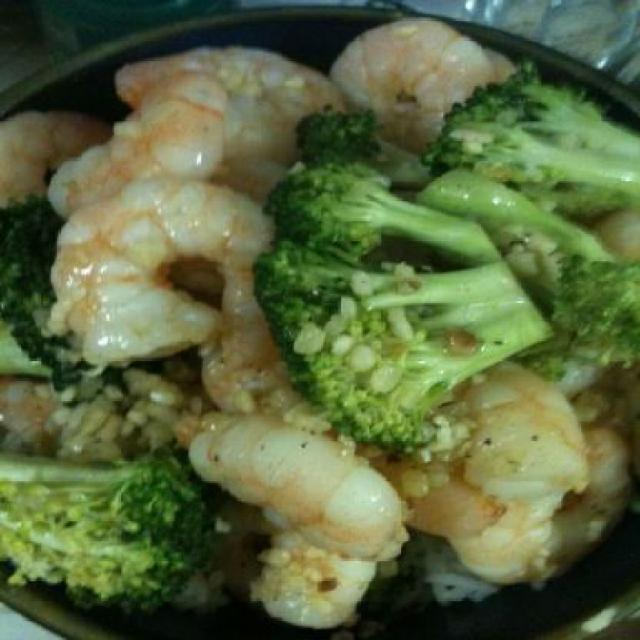Broccoli: (259, 233, 553, 453), (416, 169, 639, 362), (0, 454, 217, 614), (0, 201, 128, 417), (423, 70, 640, 192), (270, 156, 493, 270), (295, 108, 440, 190)
